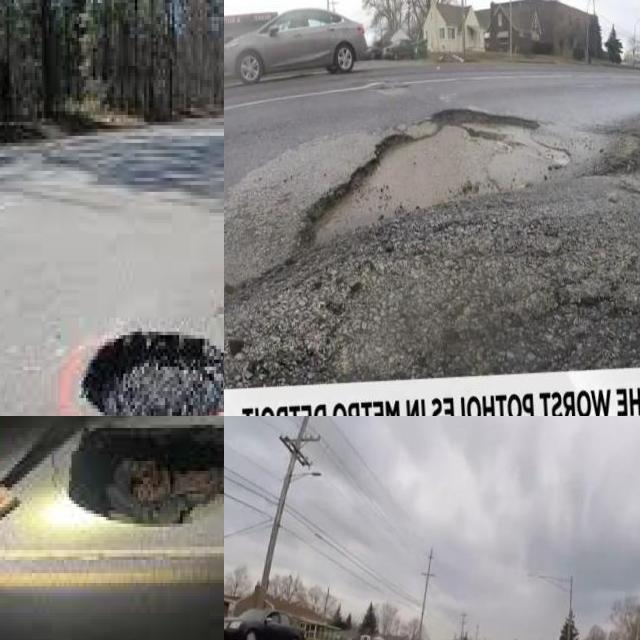Pothole: (285, 107, 611, 252), (314, 110, 570, 243), (72, 425, 224, 524), (81, 332, 224, 416)
